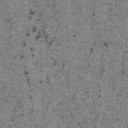oxide scale of temperature system: (14, 10, 60, 60), (36, 58, 65, 71), (15, 101, 34, 120), (24, 66, 34, 86), (40, 78, 50, 84), (90, 43, 96, 52), (100, 67, 105, 76), (120, 63, 124, 74), (104, 42, 108, 48)
